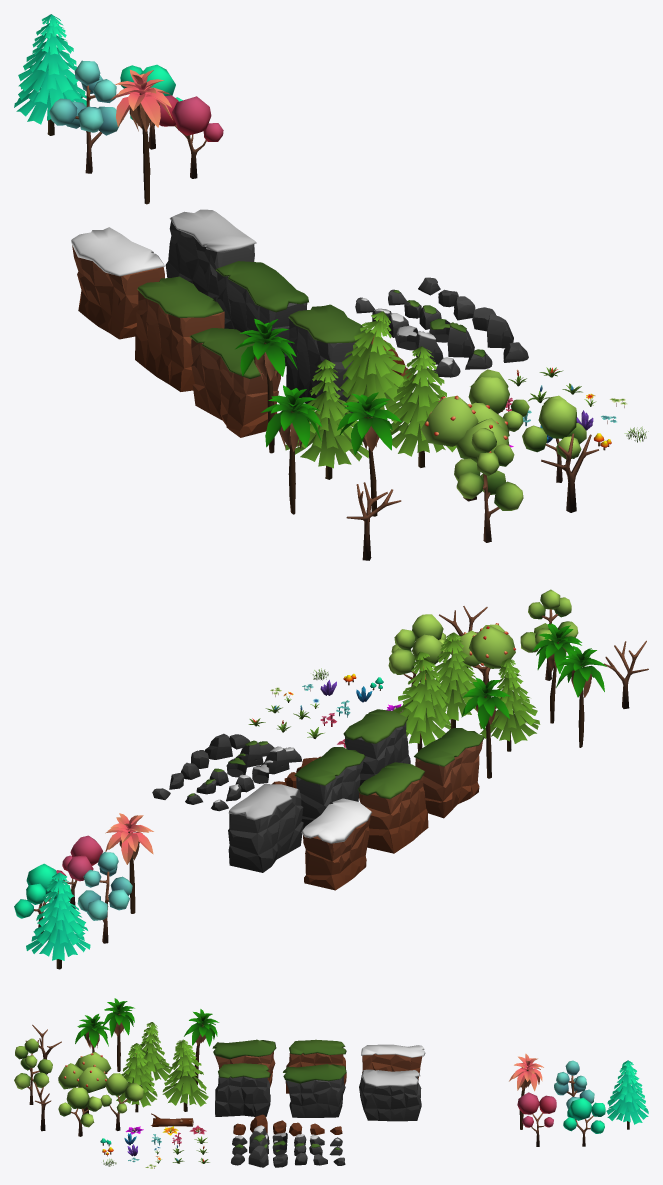
File: LP PACK SS.fbx
3 views of the same model, one above another, from view 1: azimuth 30°, elevation 25°; view 2: azimuth 150°, elevation 25°; view 3: azimuth 270°, elevation 25° (orthographic). The views are drawn at different scales.
Visible parts, largest first — view 1: ClifGg2, ClifGi1, ClifBg1.001, ClifBi1, ClifBg1, ClifBg2, TreeVC, TreeV2, TreeV1, TreeR3, TreeV3, TreeRF (+12 smaller); view 2: ClifBi1, ClifGi1, ClifGg2, ClifBg1.001, ClifBg1, TreeV2, TreeVC, ClifBg2, TreeV3, TreeV1, TreeRC3, TreeRF (+10 smaller); view 3: ClifBi1, ClifBg1, ClifBg2, TreeV2, TreeVC, ClifGi1, ClifBg1.001, TreeRF, ClifGg2, TreeV1, TreeR3, TreeRC1 (+11 smaller).
Boxes of the visible parts, <box> form: ClifGg2: <box>135,276,224,391</box>; ClifGi1: <box>71,227,164,339</box>; ClifBg1.001: <box>189,328,280,437</box>; ClifBi1: <box>165,209,256,302</box>; ClifBg1: <box>216,261,308,366</box>; ClifBg2: <box>286,304,371,414</box>; TreeVC: <box>14,14,90,135</box>; TreeV2: <box>340,311,411,434</box>; TreeV1: <box>389,346,456,467</box>; TreeR3: <box>454,428,523,542</box>; TreeV3: <box>285,359,368,479</box>; TreeRF: <box>421,395,509,501</box>; ClifBi1: <box>228,784,303,872</box>; ClifGi1: <box>301,798,371,890</box>; ClifGg2: <box>357,762,428,853</box>; ClifBg1.001: <box>414,728,484,818</box>; ClifBg1: <box>294,747,365,829</box>; TreeV2: <box>393,651,450,751</box>; TreeVC: <box>26,872,90,969</box>; ClifBg2: <box>343,709,410,785</box>; TreeV3: <box>479,658,540,751</box>; TreeV1: <box>433,632,477,728</box>; TreeRC3: <box>77,852,132,943</box>; TreeRF: <box>450,623,515,697</box>; ClifBi1: <box>359,1069,421,1121</box>; ClifBg1: <box>283,1064,346,1117</box>; ClifBg2: <box>215,1063,270,1116</box>; TreeV2: <box>162,1039,208,1111</box>; TreeVC: <box>606,1060,648,1129</box>; ClifGi1: <box>361,1044,425,1079</box>; ClifBg1.001: <box>212,1039,276,1087</box>; TreeRF: <box>58,1052,111,1113</box>; ClifGg2: <box>285,1039,346,1093</box>; TreeV1: <box>116,1043,157,1112</box>; TreeR3: <box>14,1038,52,1104</box>; TreeRC1: <box>563,1097,605,1146</box>.
Size of the model in its own units: 3651 by 1157 by 9075.
